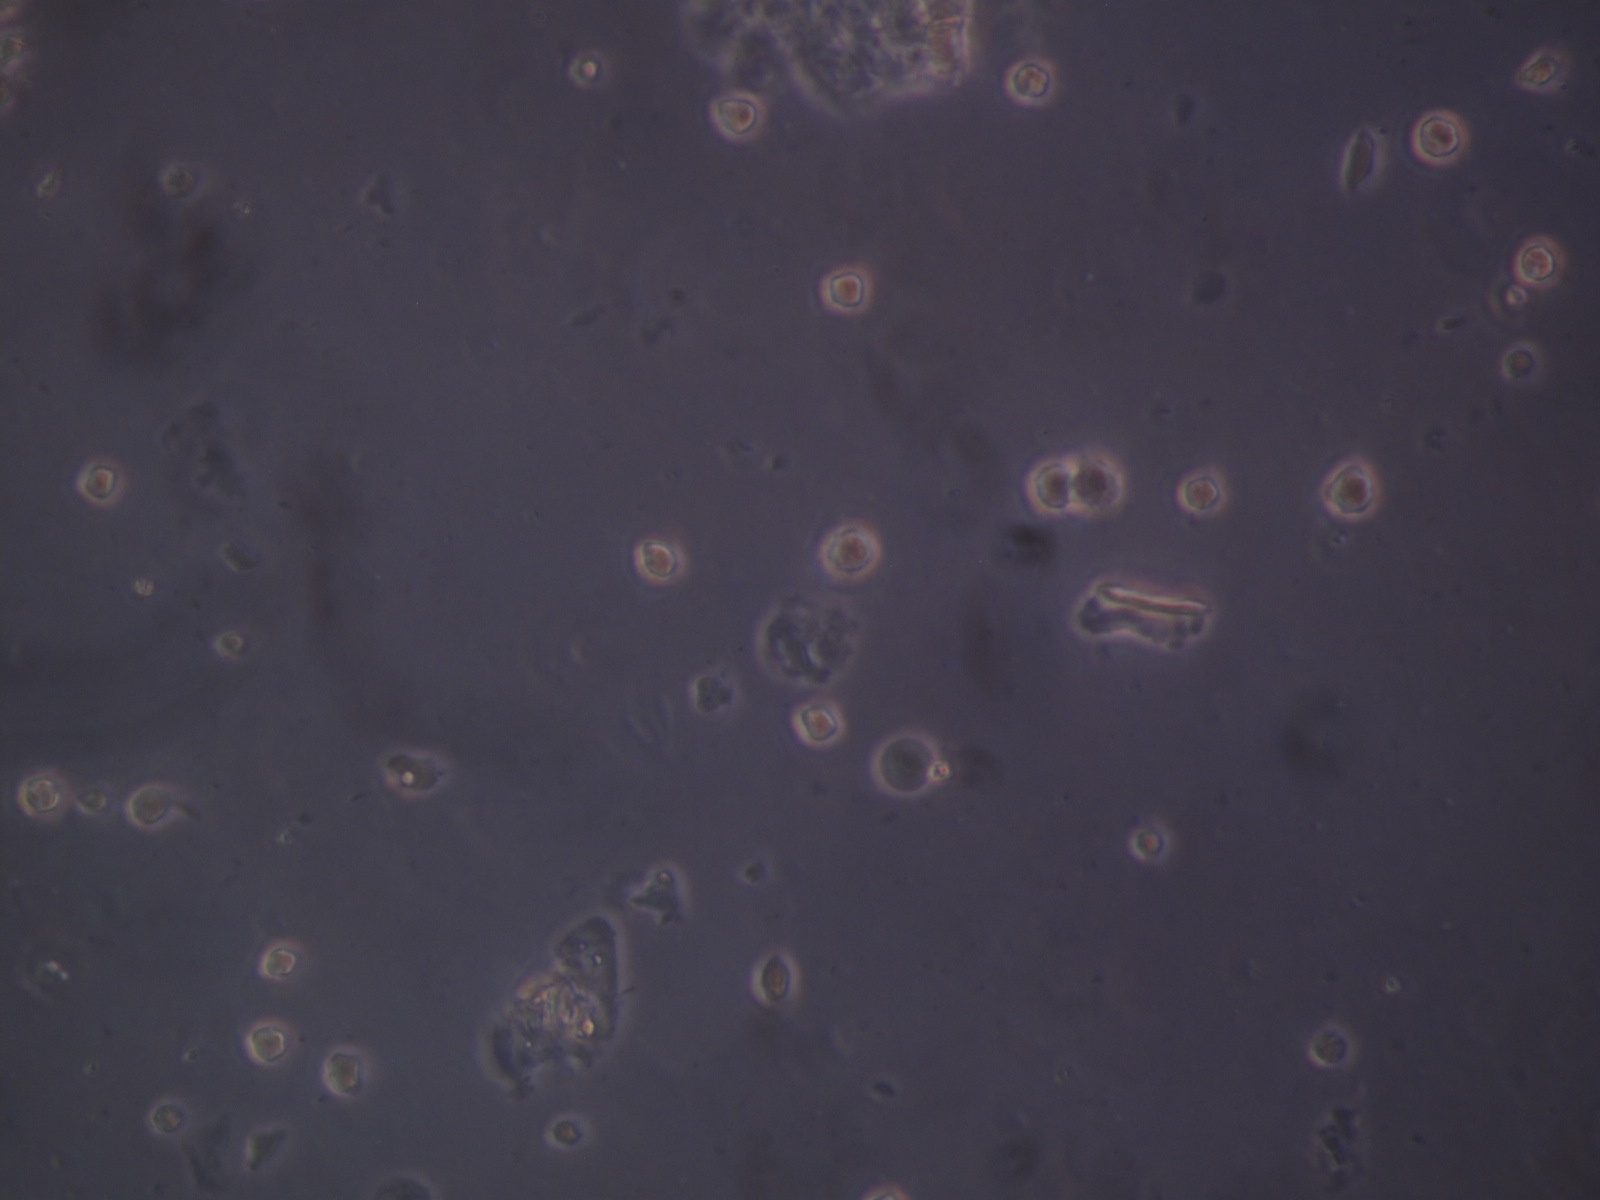hemo: (872, 729, 941, 800), (1322, 454, 1382, 522), (816, 522, 883, 582), (1070, 449, 1128, 516), (1411, 108, 1468, 166), (751, 945, 801, 1007), (1002, 53, 1057, 108), (634, 534, 692, 586), (1026, 453, 1072, 516), (818, 265, 874, 315), (708, 88, 763, 139), (18, 770, 69, 822), (126, 783, 181, 831), (1516, 234, 1563, 289), (323, 1046, 370, 1099), (1178, 468, 1228, 517), (792, 698, 843, 747), (79, 458, 129, 508), (1517, 47, 1569, 93), (246, 1018, 290, 1064), (1309, 1024, 1352, 1068), (1499, 338, 1540, 381), (261, 939, 304, 979), (543, 1113, 588, 1151), (1131, 821, 1172, 862), (147, 1099, 191, 1137)
